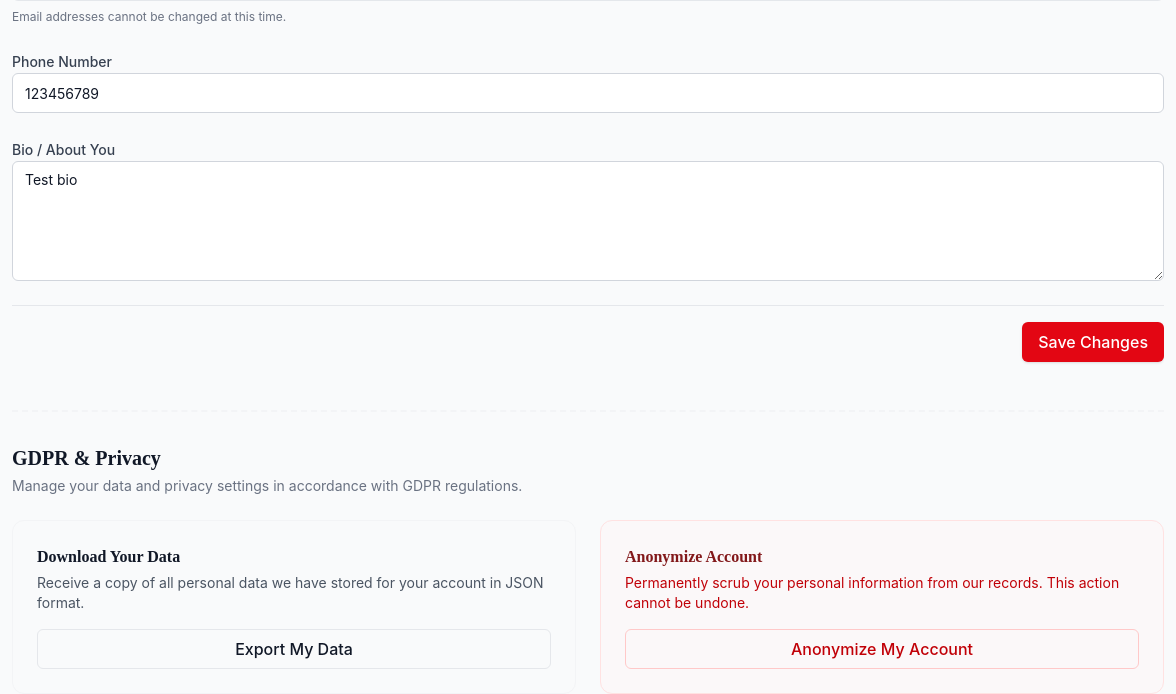
ProfileForm › should handle GDPR export
(page scrolled)
Click the button "Export My Data".
click(294, 649)  # box [37, 629, 551, 669]
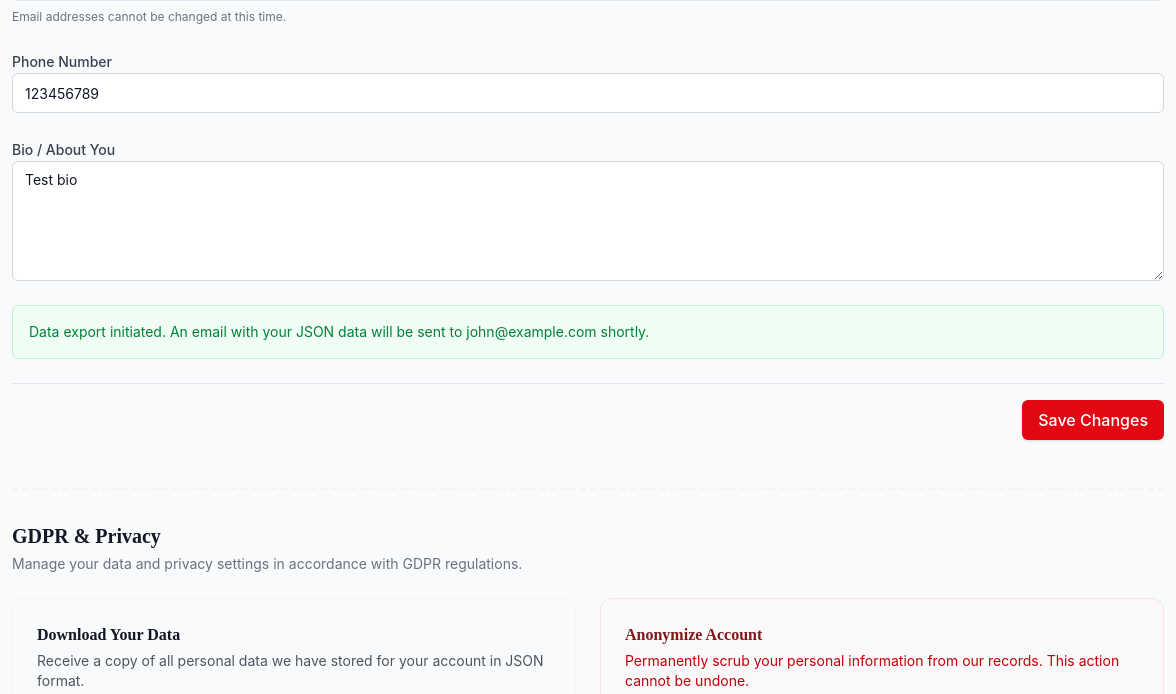
Expected: the text "Data export initiated" is shown, [29, 323, 649, 340]
